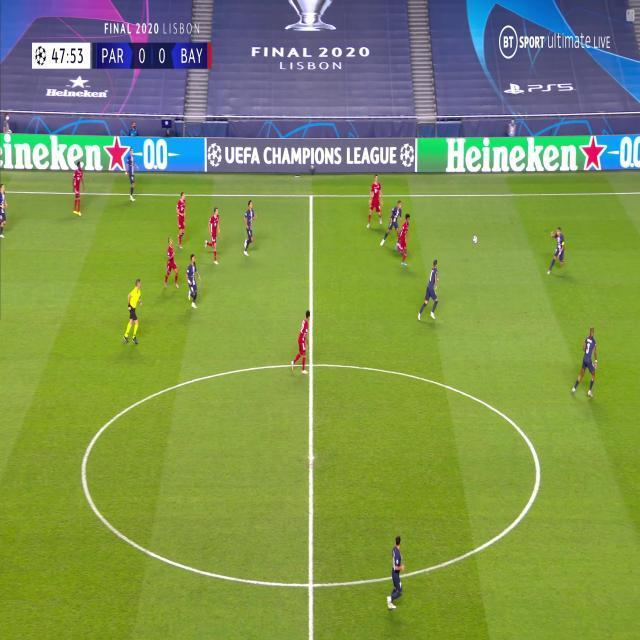ball: (473, 234, 478, 244)
player: (570, 328, 600, 400), (416, 259, 443, 322), (386, 535, 406, 610), (290, 311, 313, 376), (381, 198, 403, 251), (204, 206, 222, 267), (546, 225, 567, 276), (241, 199, 259, 258), (162, 238, 180, 293), (365, 176, 383, 230), (71, 161, 86, 218), (186, 253, 201, 309), (174, 191, 188, 250), (396, 214, 411, 269), (124, 148, 138, 203), (0, 182, 9, 238)
referee: (123, 278, 144, 347)
